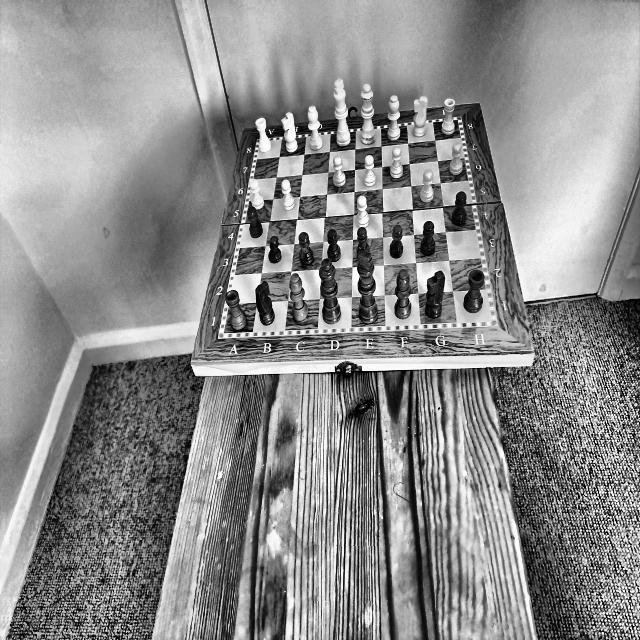black-bishop: (394, 268, 414, 325), (288, 272, 310, 322)
black-king: (354, 249, 379, 325)
black-knight: (423, 270, 446, 322), (254, 280, 278, 327)
black-pawn: (324, 228, 346, 266), (295, 231, 316, 267), (245, 205, 266, 241), (420, 219, 438, 259), (451, 191, 469, 227), (356, 227, 374, 260), (389, 223, 405, 260), (267, 236, 286, 265)
black-queen: (318, 258, 344, 326)
black-rook: (223, 289, 251, 331), (462, 269, 486, 316)
white-bishop: (306, 104, 325, 154), (386, 93, 401, 143)
white-king: (332, 77, 352, 148)
white-knight: (278, 112, 302, 154), (411, 96, 430, 140)
white-pawn: (279, 177, 297, 214), (248, 178, 267, 212), (362, 150, 378, 190), (331, 155, 349, 189), (419, 170, 436, 204), (354, 194, 370, 230), (389, 146, 405, 182), (449, 142, 464, 177)
white-queen: (359, 83, 377, 147)
white-rook: (253, 117, 272, 154), (442, 96, 456, 137)
